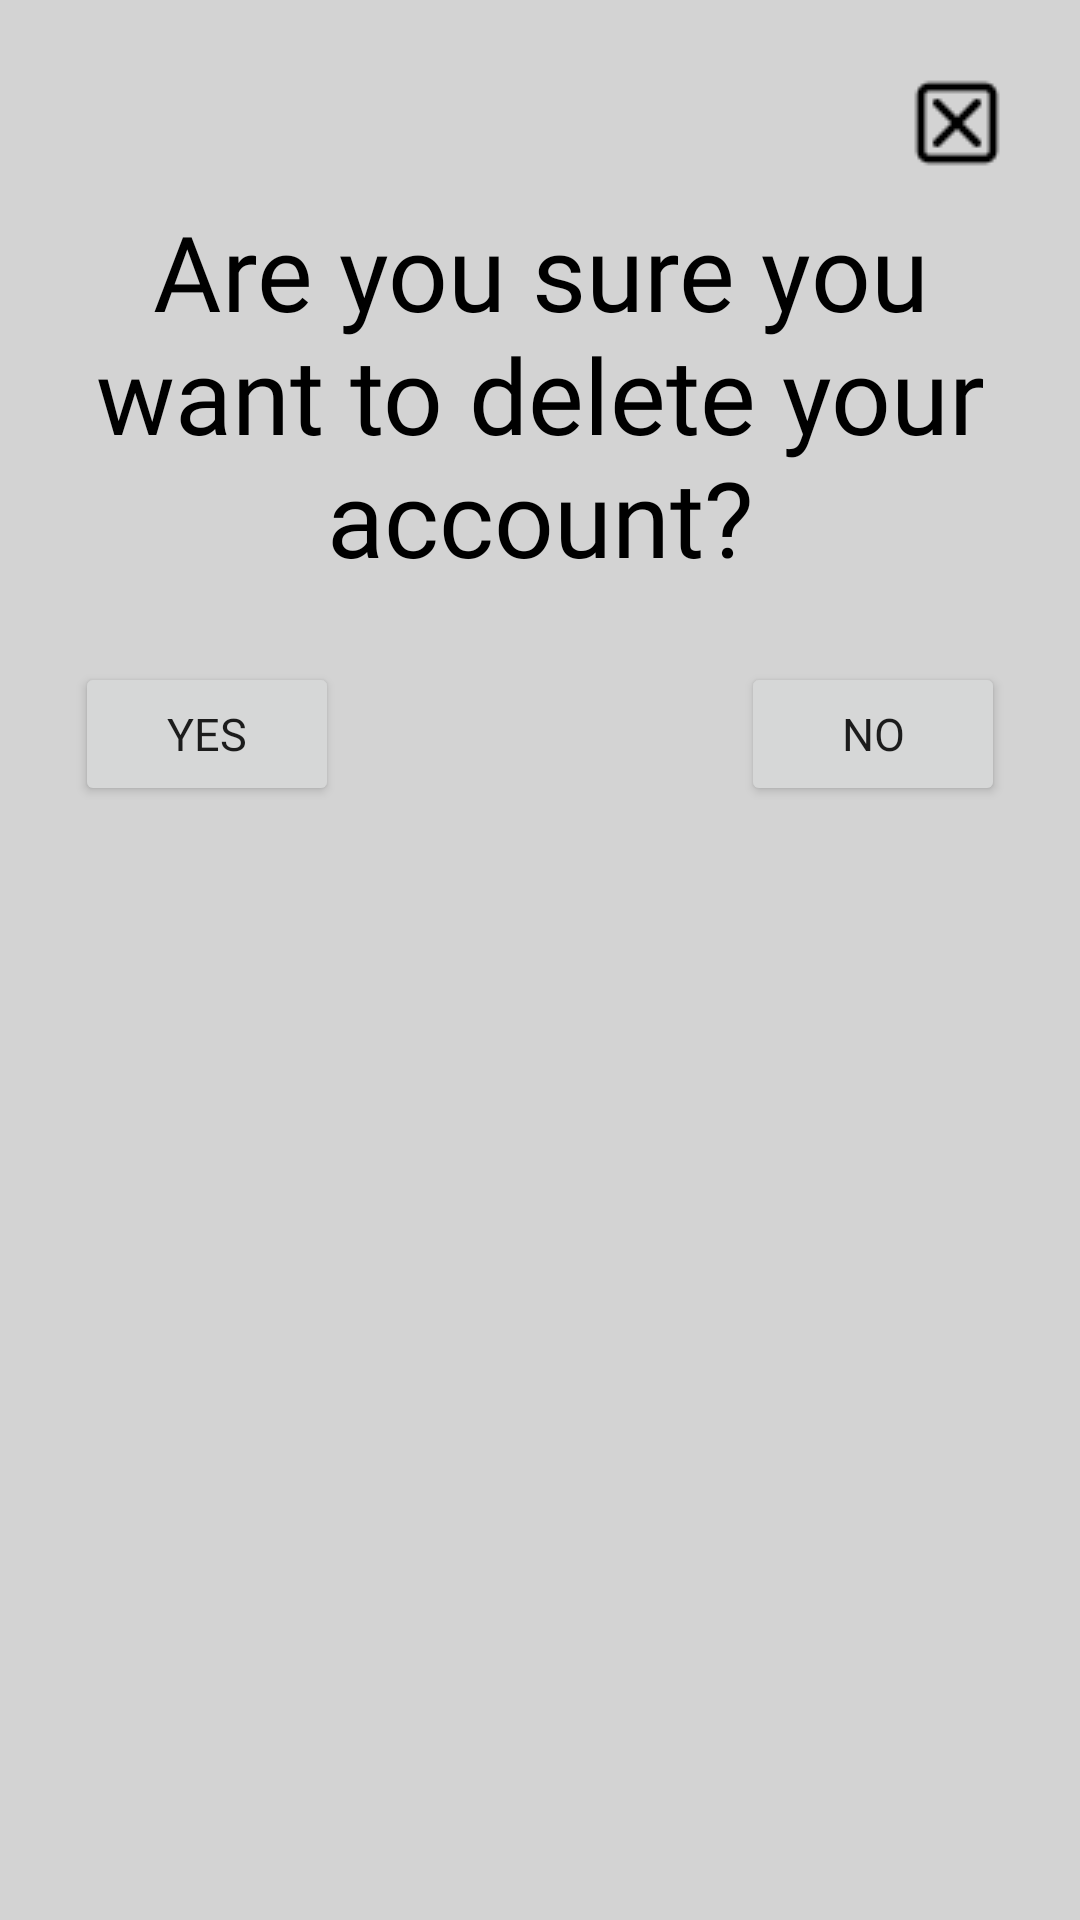

Icon bounding boxes for this 1080×1920 phone screenshot, format box=[x1, y1, x2, y2]:
close window: box=[915, 81, 999, 165]
